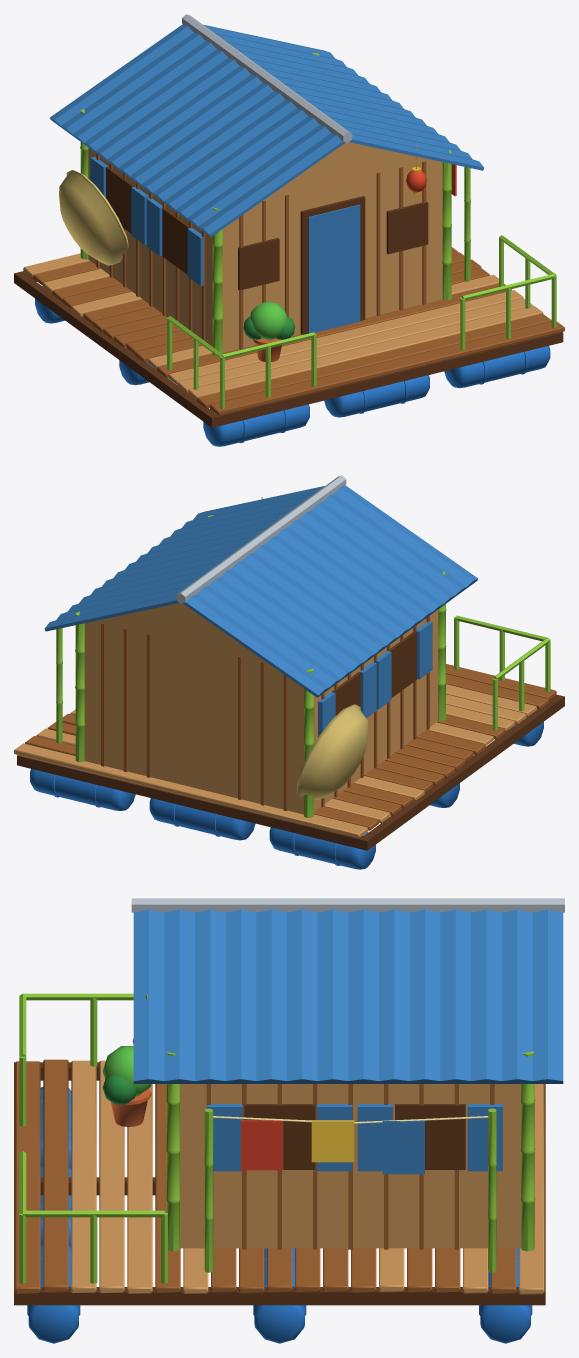
Rendered from raft_house.glb.
3 renders of one model, top to bottom at view 1: azimuth 30°, elevation 25°; view 2: azimuth 150°, elevation 25°; view 3: azimuth 270°, elevation 25°, orthographic. The views are drawn at different scales.
Parts seen in each view (by area): view 1: raft_house; view 2: raft_house; view 3: raft_house.
Part boxes in pixels (x1,y1,x2,y2): raft_house: (14, 14, 564, 446); raft_house: (14, 475, 564, 869); raft_house: (14, 898, 564, 1343).
Bounding box in the file's own units: 6.21 × 4.23 × 6.22.
